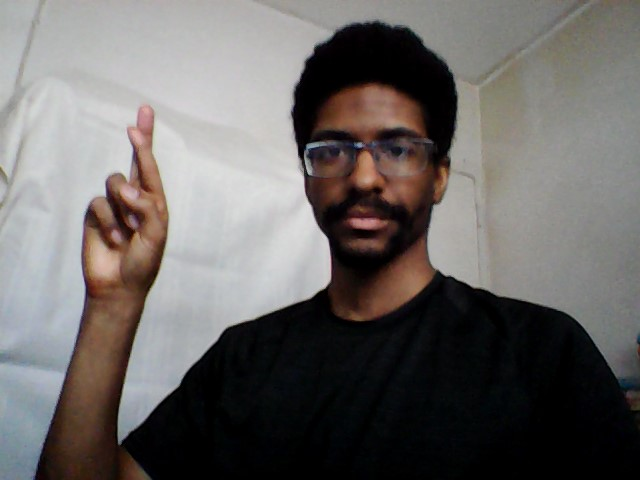r: (75, 102, 175, 300)
